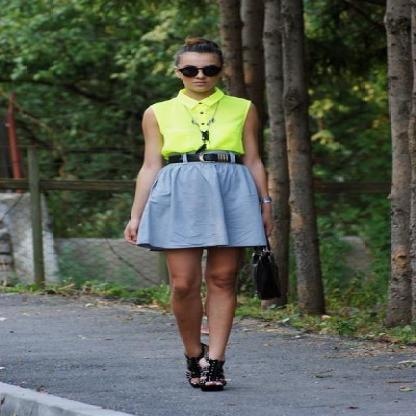bag: (237, 245, 294, 300)
shirt: (145, 91, 254, 152)
shoe: (186, 346, 226, 391)
skirt: (136, 149, 265, 248)
sunglass: (179, 61, 222, 78)
